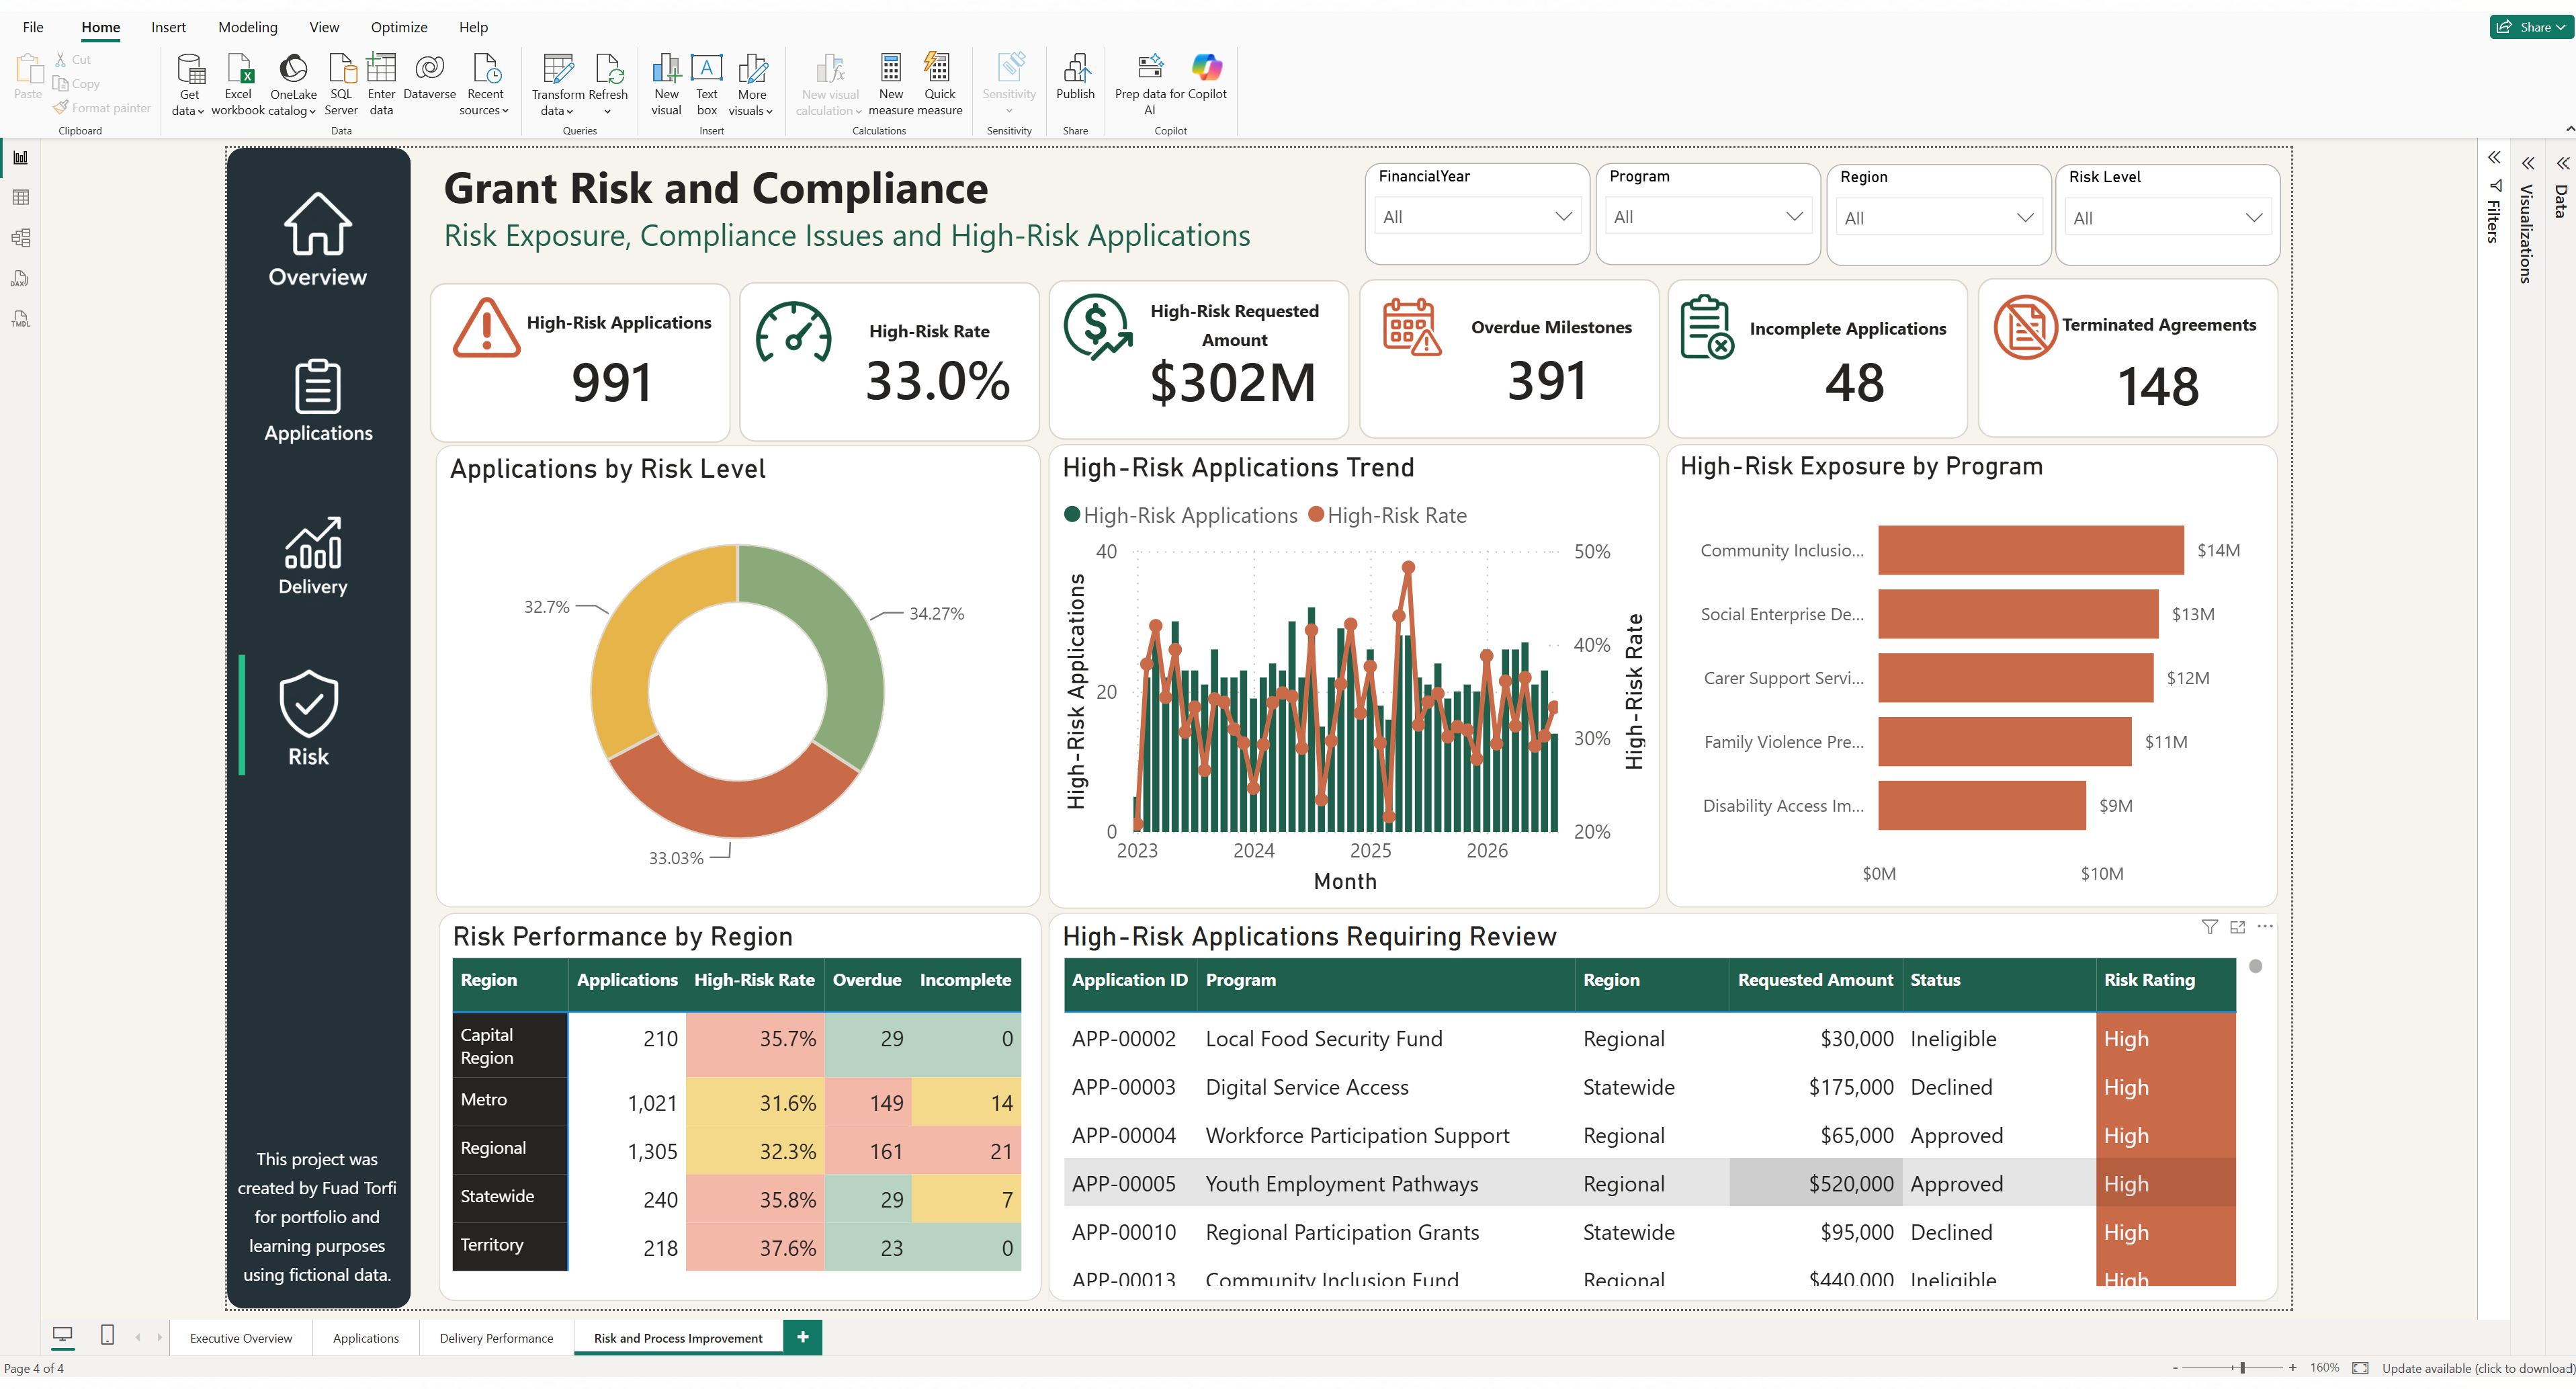

What the dashboard file says about the page in this screenshot:
{"tool":"powerbi","page":{"name":"Risk and Process Improvement","canvas":[1280,720],"ordinal":3},"visuals":[{"type":"shape","box":[0,0,114,719.7],"z":0},{"type":"image","box":[18.4,26.8,76.3,64],"z":1000},{"type":"image","box":[0,129.1,113.6,64],"z":2000},{"type":"image","box":[5.9,220.6,88.8,64],"z":3000},{"type":"image","box":[0,320,100.8,64.2],"z":4000},{"type":"shape","box":[0,314.6,18.3,74.6],"z":5000},{"type":"textbox","box":[129.3,0,570.7,72.7],"z":6000},{"type":"slicer","fields":{"Values":["Date.FinancialYear"]},"box":[705.3,9.3,140,63.3],"z":7000},{"type":"slicer","fields":{"Values":["Programs.ProgramName"]},"box":[848.6,9.5,140,63.2],"z":8000},{"type":"slicer","fields":{"Values":["Applications.Region"]},"box":[991.8,10,140,63.2],"z":9000},{"type":"slicer","fields":{"Values":["Applications.RiskRating"]},"box":[1133.6,10,140,63.2],"z":10000},{"type":"shape","box":[125.7,83.7,186.9,99.2],"z":11000},{"type":"cardVisual","fields":{"Data":["DAX measures.High-Risk Applications"]},"box":[184.1,105.7,112.4,73.9],"z":12000},{"type":"textbox","box":[166.3,91.7,153.8,30.3],"z":13000},{"type":"image","box":[137.2,92.1,46.8,39.6],"z":14000},{"type":"shape","box":[317.8,82.9,186.9,99.2],"z":15000},{"type":"cardVisual","fields":{"Data":["DAX measures.High-Risk Rate"]},"box":[366,104.2,156,73.9],"z":16000},{"type":"textbox","box":[366.2,97.4,138.6,30.1],"z":17000},{"type":"image","box":[327.6,93.5,48.2,39.6],"z":18000},{"type":"shape","box":[509.6,81.9,186.9,99.2],"z":19000},{"type":"cardVisual","fields":{"Data":["DAX measures.High-Risk Requested Amount"]},"box":[542.7,105,173.7,75.4],"z":20000},{"type":"textbox","box":[547.8,85,153.8,47.3],"z":21000},{"type":"image","box":[516,90.2,48.1,42.9],"z":22000},{"type":"shape","box":[701.6,81.1,186.9,99.2],"z":23000},{"type":"cardVisual","fields":{"Data":["DAX measures.Overdue_Milestones"]},"box":[764.5,103.5,113.9,74.7],"z":24000},{"type":"textbox","box":[744.3,95,154.3,30.7],"z":25000},{"type":"image","box":[711.3,92.2,47.6,37.6],"z":26000},{"type":"shape","box":[892.9,81.1,186.9,99.2],"z":27000},{"type":"cardVisual","fields":{"Data":["DAX measures.Incomplete Applications"]},"box":[961.9,105.7,118.3,73.9],"z":28000},{"type":"textbox","box":[925,95.7,160.7,30.7],"z":29000},{"type":"image","box":[894.3,90.7,47.9,41.4],"z":30000},{"type":"shape","box":[1085.6,80.7,186.9,99.2],"z":31000},{"type":"textbox","box":[1124.3,92.9,147.9,32.9],"z":32000},{"type":"image","box":[1092.8,90.9,46.4,41.2],"z":33000},{"type":"cardVisual","fields":{"Data":["DAX measures.Terminated Agreements"]},"box":[1143.7,107.9,128.6,73.2],"z":34000},{"type":"donutChart","title":"Applications by Risk Level","fields":{"Category":["Applications.RiskRating"],"Y":["DAX measures.Total Applications"]},"box":[129.6,184.7,375.2,286.8],"z":35000},{"type":"lineClusteredColumnComboChart","title":"High-Risk Applications Trend","fields":{"Category":["Date.YearMonth"],"Y":["DAX measures.High-Risk Applications"],"Y2":["DAX measures.High-Risk Rate"]},"box":[509.4,183.8,379.3,287.7],"z":36000},{"type":"clusteredBarChart","title":"High-Risk Exposure by Program","fields":{"Category":["Programs.ProgramName"],"Y":["DAX measures.High-Risk Requested Amount"]},"box":[892.3,184,379.5,287.5],"z":37000},{"type":"pivotTable","title":"Risk Performance by Region","fields":{"Rows":["Applications.Region"],"Values":["DAX measures.Total Applications","DAX measures.High-Risk Rate","DAX measures.Overdue Milestones","DAX measures.Incomplete Applications"]},"box":[131.1,474.4,373.7,240.5],"z":38000},{"type":"tableEx","title":"High-Risk Applications Requiring Review","fields":{"Values":["Applications.ApplicationID","Programs.ProgramName","Applications.Region","Sum(Applications.RequestedAmount)","Applications.ApplicationStatus","Applications.RiskRating"]},"box":[509.2,474.4,762.6,240.5],"z":39000},{"type":"textbox","box":[0,610.6,111.9,109.4],"z":39001}]}

Visuals, with their boxes on the page's 1280x720 design canvas (x1, y1, x2, y2). These are canvas units, not pixel positions in the 2576x1389 screenshot, which may show the page scaled, cropped or inside an application window:
shape: (x1=0, y1=0, x2=114, y2=720)
image: (x1=18, y1=27, x2=95, y2=91)
image: (x1=0, y1=129, x2=114, y2=193)
image: (x1=6, y1=221, x2=95, y2=285)
image: (x1=0, y1=320, x2=101, y2=384)
shape: (x1=0, y1=315, x2=18, y2=389)
textbox: (x1=129, y1=0, x2=700, y2=73)
slicer - Date.FinancialYear: (x1=705, y1=9, x2=845, y2=73)
slicer - Programs.ProgramName: (x1=849, y1=10, x2=989, y2=73)
slicer - Applications.Region: (x1=992, y1=10, x2=1132, y2=73)
slicer - Applications.RiskRating: (x1=1134, y1=10, x2=1274, y2=73)
shape: (x1=126, y1=84, x2=313, y2=183)
cardVisual - DAX measures.High-Risk Applications: (x1=184, y1=106, x2=296, y2=180)
textbox: (x1=166, y1=92, x2=320, y2=122)
image: (x1=137, y1=92, x2=184, y2=132)
shape: (x1=318, y1=83, x2=505, y2=182)
cardVisual - DAX measures.High-Risk Rate: (x1=366, y1=104, x2=522, y2=178)
textbox: (x1=366, y1=97, x2=505, y2=128)
image: (x1=328, y1=94, x2=376, y2=133)
shape: (x1=510, y1=82, x2=696, y2=181)
cardVisual - DAX measures.High-Risk Requested Amount: (x1=543, y1=105, x2=716, y2=180)
textbox: (x1=548, y1=85, x2=702, y2=132)
image: (x1=516, y1=90, x2=564, y2=133)
shape: (x1=702, y1=81, x2=888, y2=180)
cardVisual - DAX measures.Overdue_Milestones: (x1=764, y1=104, x2=878, y2=178)
textbox: (x1=744, y1=95, x2=899, y2=126)
image: (x1=711, y1=92, x2=759, y2=130)
shape: (x1=893, y1=81, x2=1080, y2=180)
cardVisual - DAX measures.Incomplete Applications: (x1=962, y1=106, x2=1080, y2=180)
textbox: (x1=925, y1=96, x2=1086, y2=126)
image: (x1=894, y1=91, x2=942, y2=132)
shape: (x1=1086, y1=81, x2=1272, y2=180)
textbox: (x1=1124, y1=93, x2=1272, y2=126)
image: (x1=1093, y1=91, x2=1139, y2=132)
cardVisual - DAX measures.Terminated Agreements: (x1=1144, y1=108, x2=1272, y2=181)
"Applications by Risk Level" donutChart: (x1=130, y1=185, x2=505, y2=472)
"High-Risk Applications Trend" lineClusteredColumnComboChart: (x1=509, y1=184, x2=889, y2=472)
"High-Risk Exposure by Program" clusteredBarChart: (x1=892, y1=184, x2=1272, y2=472)
"Risk Performance by Region" pivotTable: (x1=131, y1=474, x2=505, y2=715)
"High-Risk Applications Requiring Review" tableEx: (x1=509, y1=474, x2=1272, y2=715)
textbox: (x1=0, y1=611, x2=112, y2=720)
